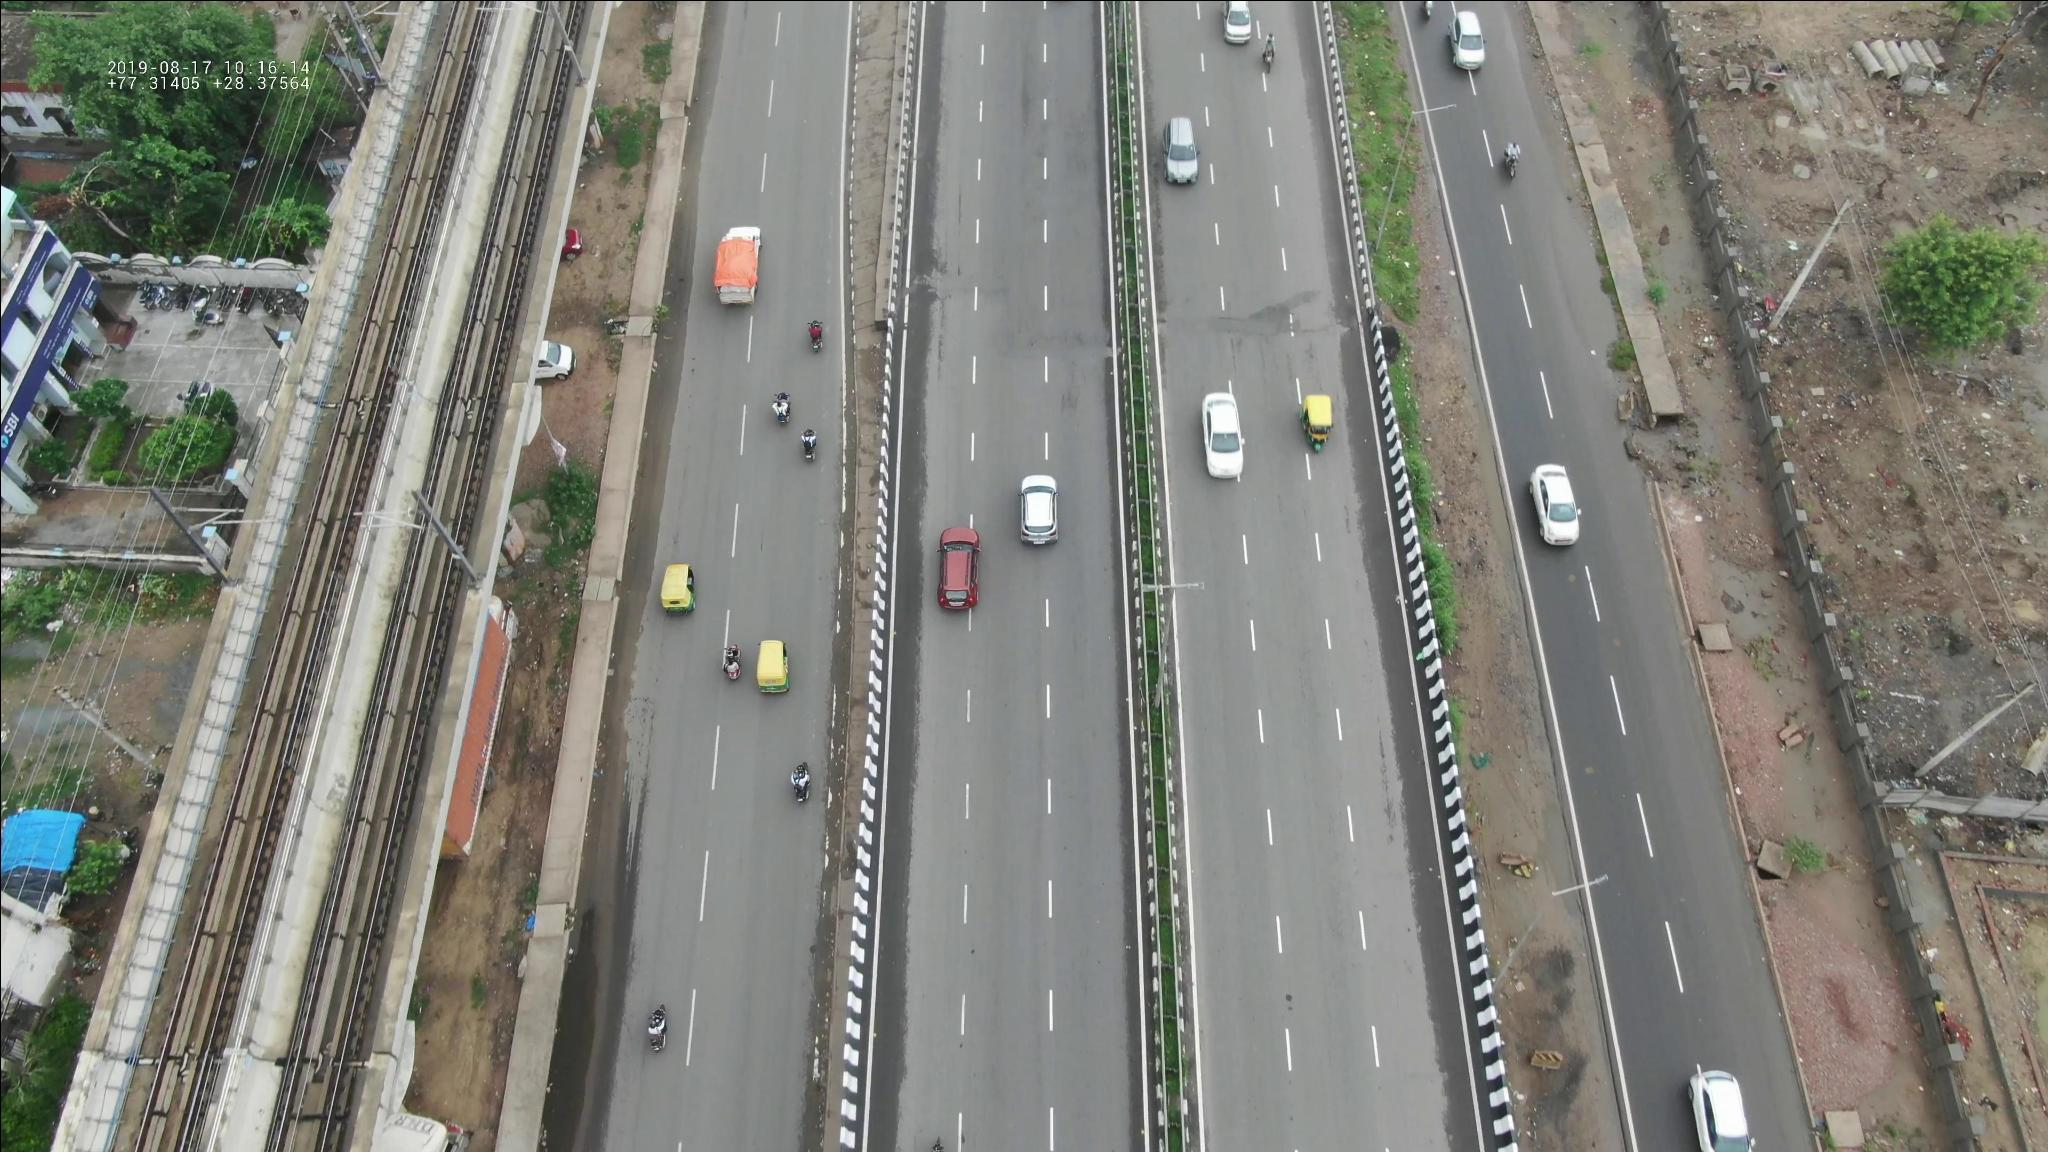Potholes: (1210, 305, 1305, 359)
